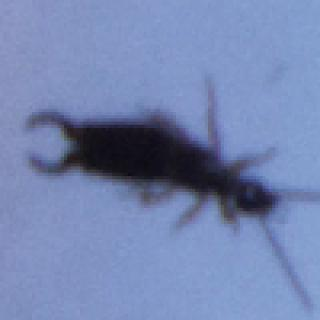earwig: (19, 70, 320, 317)
